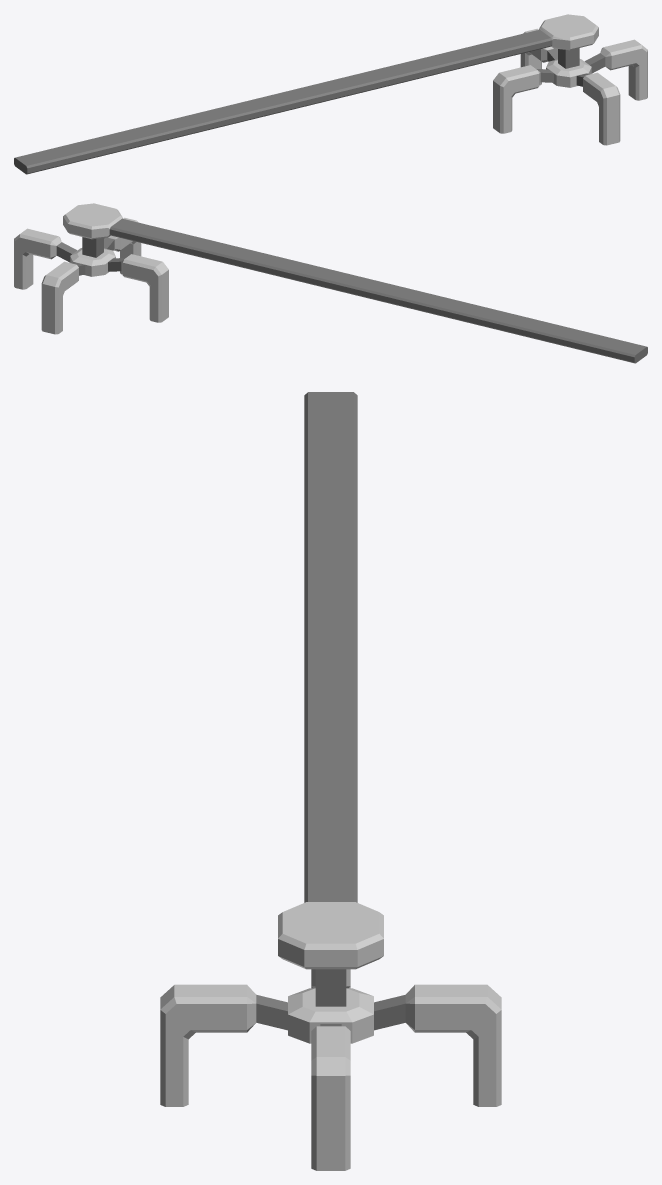
Rendered from Crane.fbx.
3 views of the same model, one above another, from view 1: azimuth 30°, elevation 25°; view 2: azimuth 150°, elevation 25°; view 3: azimuth 270°, elevation 25° (orthographic). The views are drawn at different scales.
Visible parts, largest first — view 1: polySurface20, polySurface17, polySurface14, polySurface18, polySurface19, polySurface16; view 2: polySurface20, polySurface17, polySurface14, polySurface16, polySurface19, polySurface18; view 3: polySurface20, polySurface16, polySurface18, polySurface14, polySurface19.
Part boxes in pixels (<box>): polySurface20: <box>14,14,598,174</box>; polySurface17: <box>493,65,553,133</box>; polySurface14: <box>585,39,647,100</box>; polySurface18: <box>576,72,620,145</box>; polySurface19: <box>546,48,591,87</box>; polySurface16: <box>520,28,557,85</box>; polySurface20: <box>63,203,647,363</box>; polySurface17: <box>108,254,168,322</box>; polySurface14: <box>14,228,76,289</box>; polySurface16: <box>41,261,85,334</box>; polySurface19: <box>70,237,115,276</box>; polySurface18: <box>104,217,141,274</box>; polySurface20: <box>278,392,383,969</box>; polySurface16: <box>374,984,501,1106</box>; polySurface18: <box>160,984,287,1106</box>; polySurface14: <box>311,1024,350,1170</box>; polySurface19: <box>288,969,373,1043</box>.
Bounding box in the file's own units: 763 × 102 × 181.
